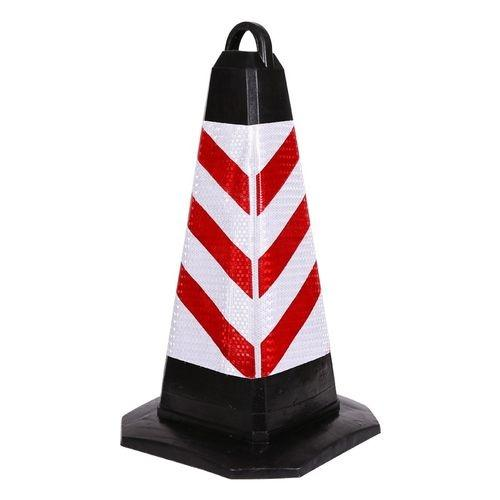cone_barrel: (137, 21, 363, 453)
